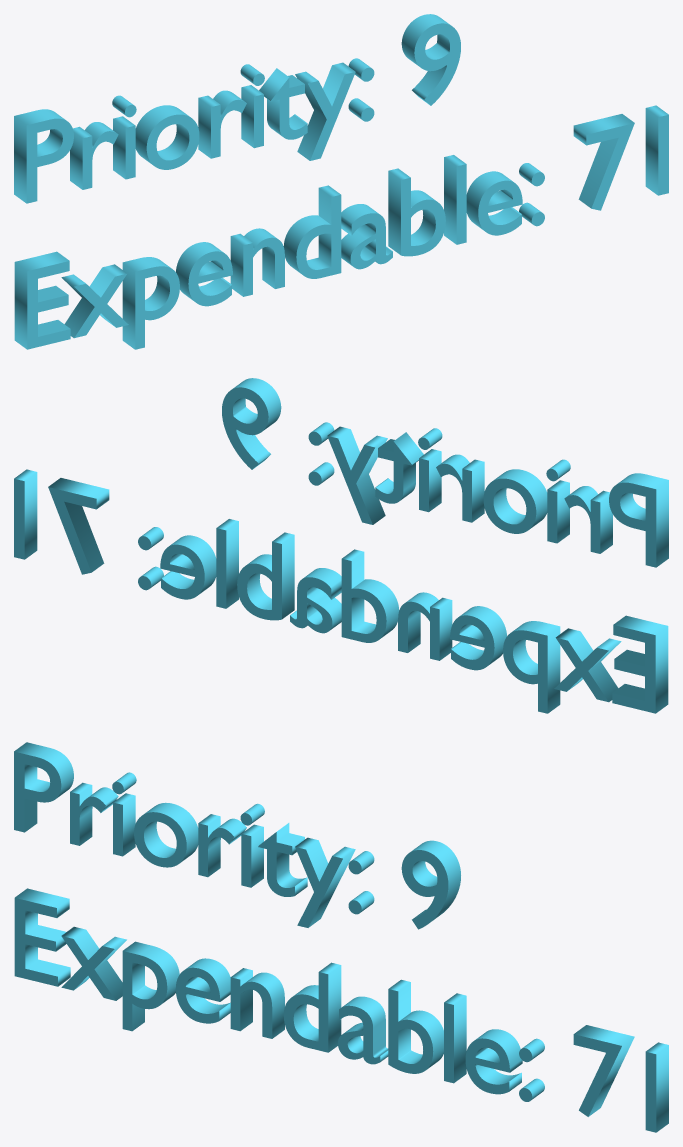
File: console_test_006_result.fbx
The picture shows the model from 3 angles, top to bottom: view 1: azimuth 30°, elevation 25°; view 2: azimuth 150°, elevation 25°; view 3: azimuth 330°, elevation 25°; orthographic projection.
Parts seen in each view (by area): view 1: Txt_Test_01.029, Txt_Test_01.028; view 2: Txt_Test_01.029, Txt_Test_01.028; view 3: Txt_Test_01.029, Txt_Test_01.028.
Boxes of the visible parts, box(x1,y1,x2,y2) form: Txt_Test_01.029: box(14, 105, 668, 349); Txt_Test_01.028: box(14, 14, 460, 203); Txt_Test_01.029: box(14, 469, 668, 713); Txt_Test_01.028: box(222, 378, 668, 567); Txt_Test_01.029: box(14, 888, 668, 1132); Txt_Test_01.028: box(14, 742, 460, 929).
Size of the model in its own units: 0.7879 by 0.2955 by 0.027.
